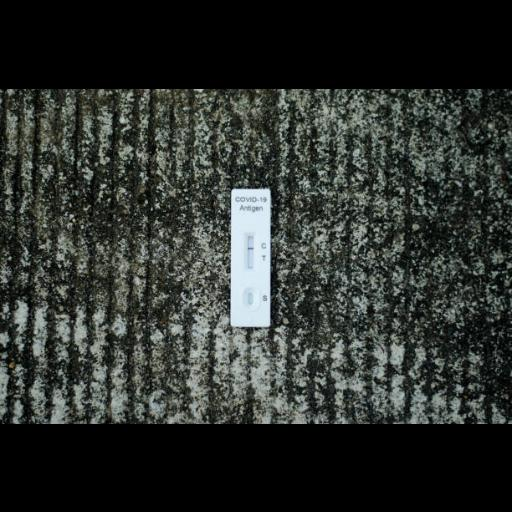Neg: (232, 188, 268, 326)
